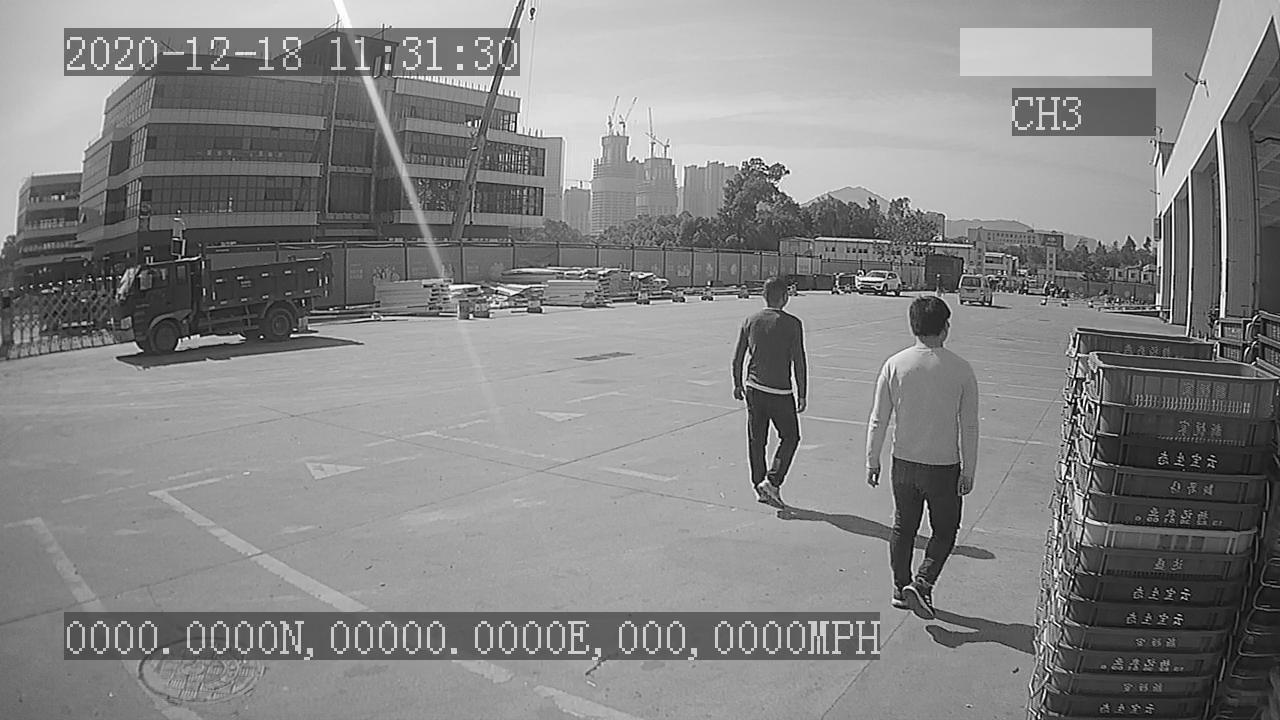person: (865, 294, 979, 621), (727, 273, 811, 505)
